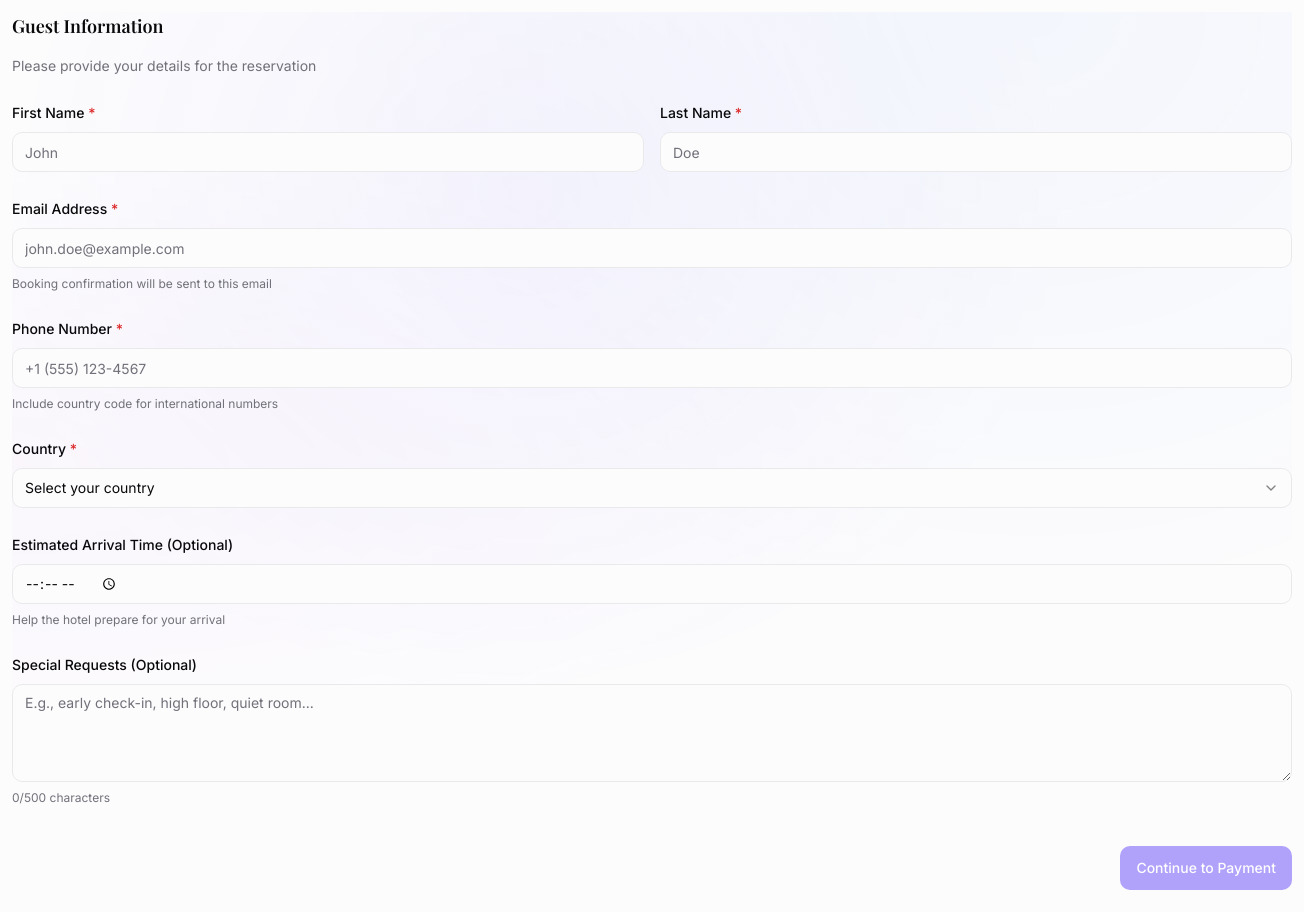
Test: GuestInfoForm Component › Character Counter › should display character count for special requests
Type "Test request" into the text box labelled "Special Requests (Optional)". click: x=652, y=733
box: top-left (12, 684), bottom-right (1292, 782)
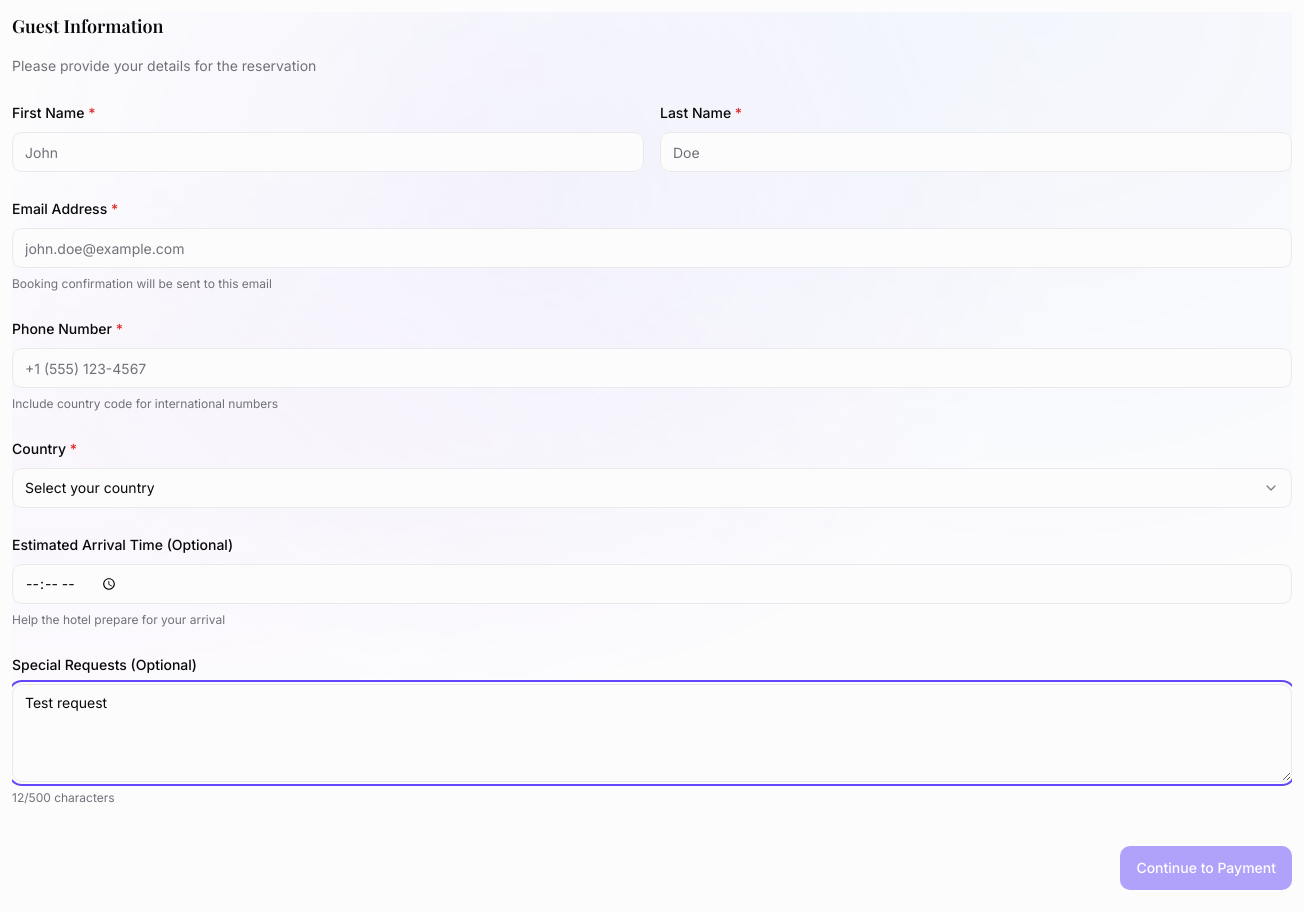
Check: the text "12/500 characters" is shown, box top-left (12, 790), bottom-right (115, 805)
